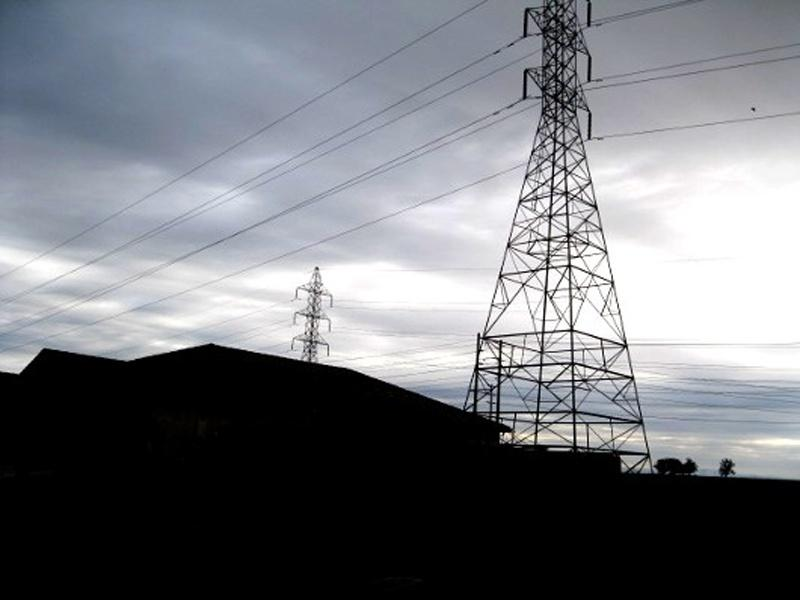power_tower: (507, 10, 676, 457), (286, 258, 343, 363)
